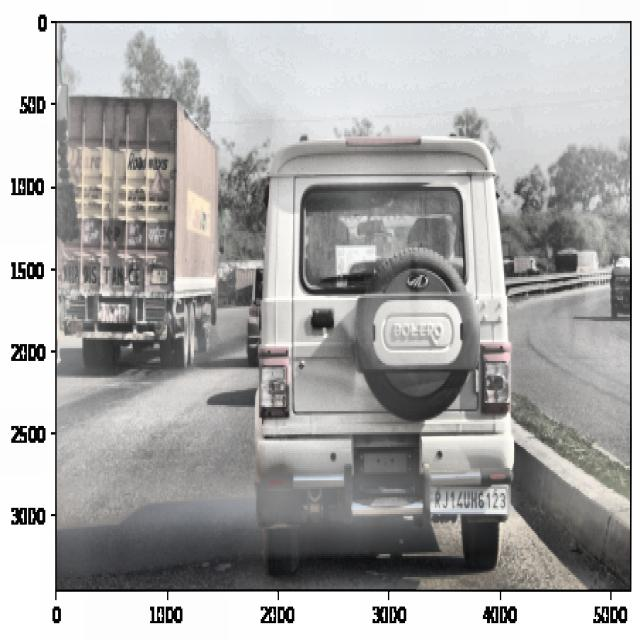license_plate: (431, 486, 509, 517)
